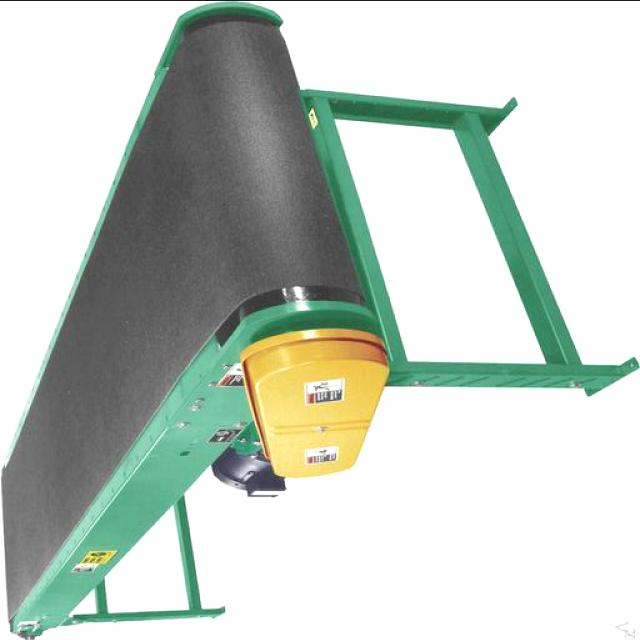conveyor: (2, 7, 372, 627), (245, 192, 245, 193)
